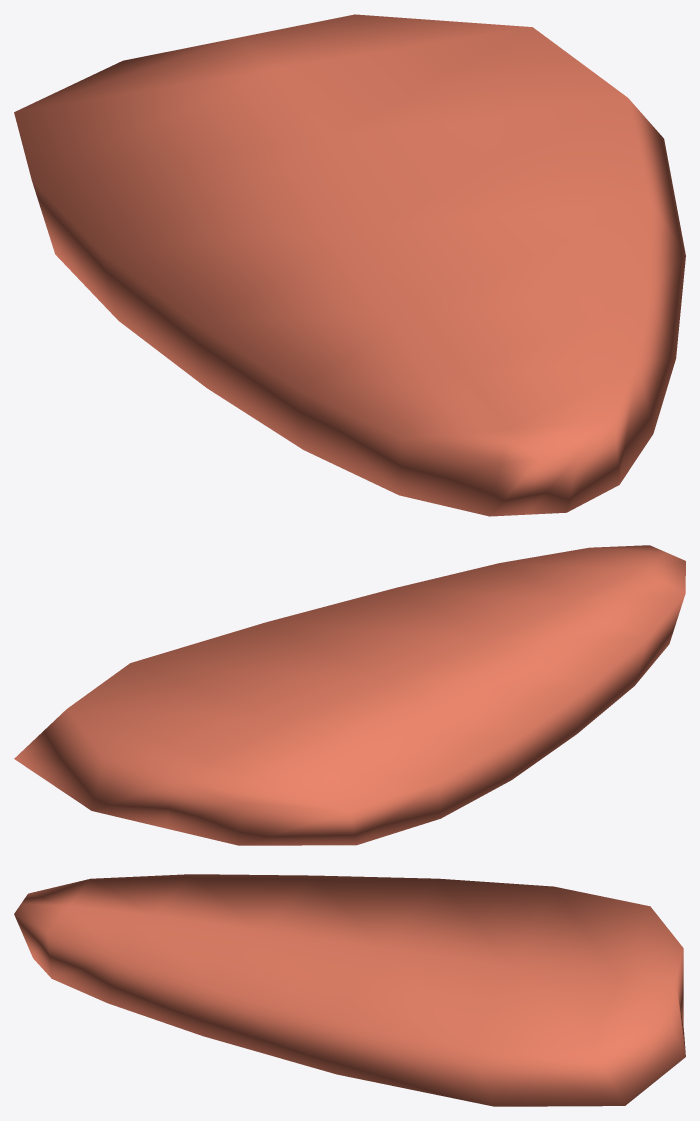
Rendered from ChickenSlice.fbx.
The picture shows the model from 3 angles, top to bottom: view 1: azimuth 30°, elevation 25°; view 2: azimuth 150°, elevation 25°; view 3: azimuth 270°, elevation 25°; orthographic projection. The views are drawn at different scales.
Visible parts, largest first — view 1: Cube.001; view 2: Cube.001; view 3: Cube.001.
Part boxes in pixels (x1,y1,x2,y2): Cube.001: [14, 14, 685, 516]; Cube.001: [14, 545, 685, 845]; Cube.001: [14, 874, 685, 1106].
Bounding box in the file's own units: 197 × 25.56 × 298.
